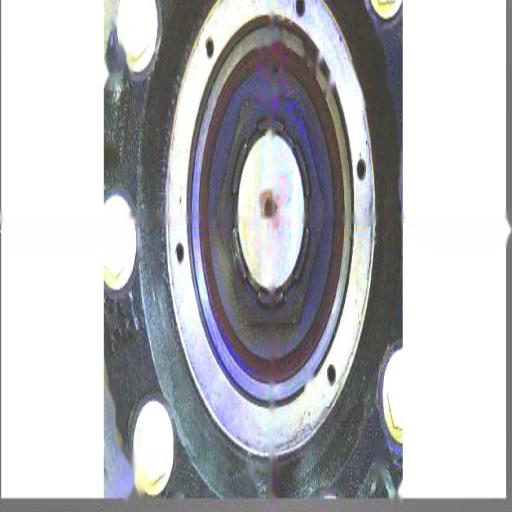center: (262, 189, 280, 224)
notch: (270, 59, 282, 88)
